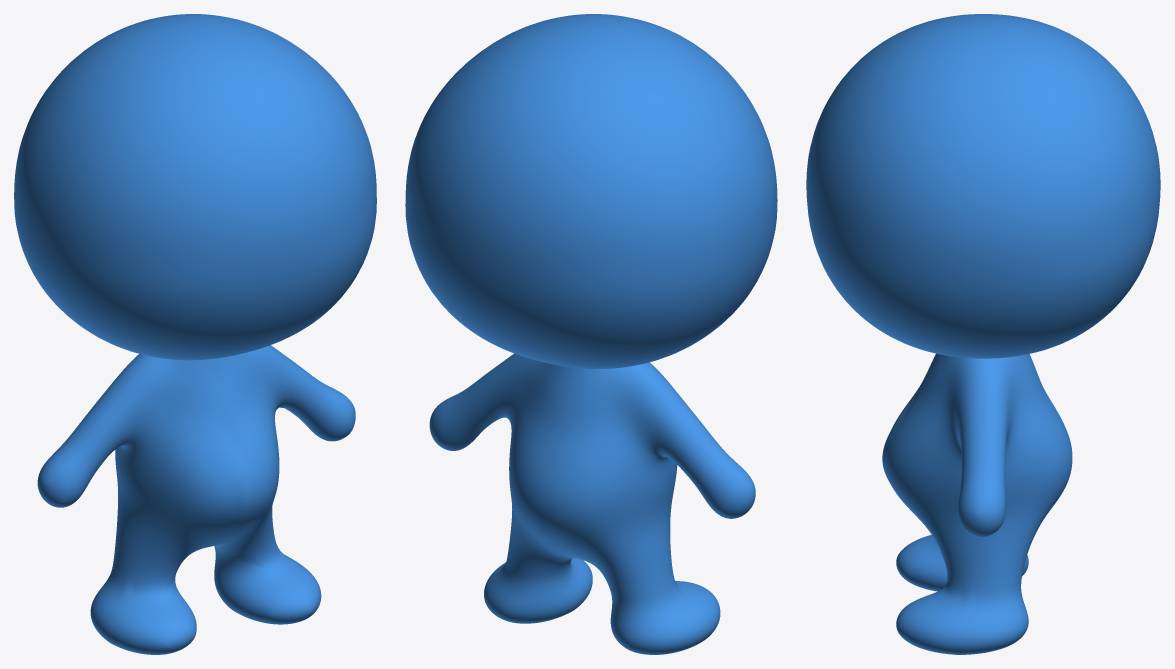
Rendered from NeverGiveUp_Character.fbx.
The picture shows the model from 3 angles, left to right: view 1: azimuth 30°, elevation 25°; view 2: azimuth 150°, elevation 25°; view 3: azimuth 270°, elevation 25°; orthographic projection. The views are drawn at different scales.
Parts seen in each view (by area): view 1: NGU - completely blank rounded head, NGU - seamless soft body; view 2: NGU - completely blank rounded head, NGU - seamless soft body; view 3: NGU - completely blank rounded head, NGU - seamless soft body.
Boxes of the visible parts, left/top/right/bottom form: NGU - completely blank rounded head: left=14, top=14, right=376, bottom=360; NGU - seamless soft body: left=37, top=345, right=355, bottom=654; NGU - completely blank rounded head: left=405, top=14, right=777, bottom=368; NGU - seamless soft body: left=429, top=353, right=755, bottom=654; NGU - completely blank rounded head: left=806, top=14, right=1160, bottom=358; NGU - seamless soft body: left=882, top=353, right=1072, bottom=654.
Bounding box in the file's own units: 225 × 403 × 222.
